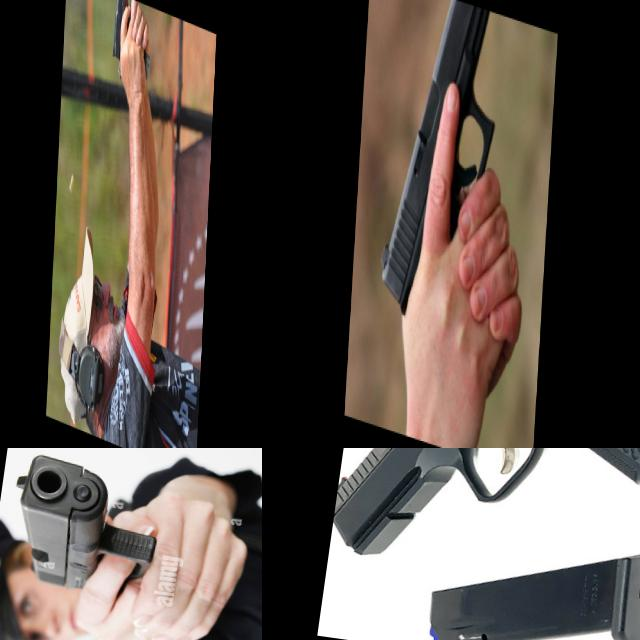handgun: (328, 448, 640, 602), (377, 0, 503, 342), (0, 448, 172, 601), (108, 0, 153, 93)
